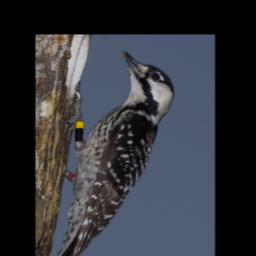Woodpecker: (43, 48, 176, 256)
